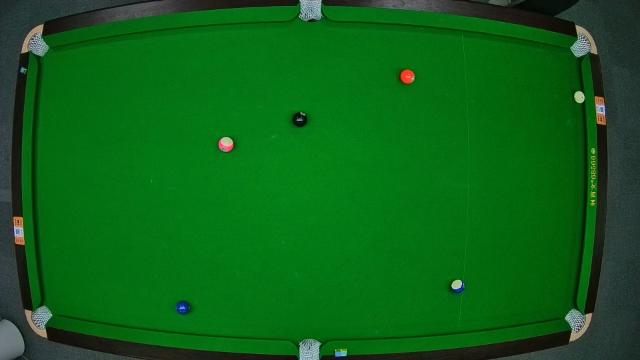bag1: (27, 34, 46, 56)
bag2: (300, 1, 324, 23)
bag3: (574, 35, 594, 56)
bag4: (33, 308, 51, 328)
bag5: (297, 340, 321, 360)
bag6: (567, 311, 587, 331)
ball0: (574, 92, 586, 104)
ball10: (451, 279, 465, 295)
ball12: (218, 136, 234, 154)
ball2: (176, 300, 192, 316)
ball5: (400, 68, 416, 84)
ball8: (292, 112, 308, 128)
